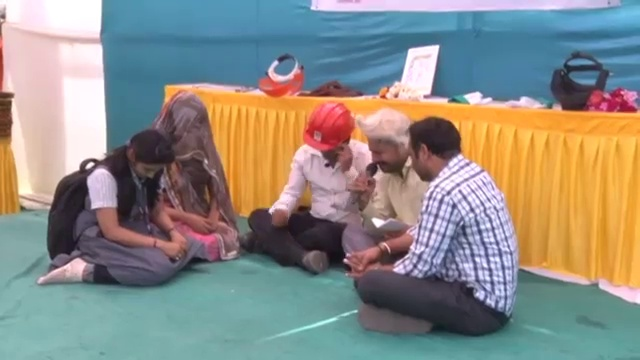helmet: (297, 105, 358, 152)
helmet_off: (408, 115, 464, 187), (361, 108, 414, 184), (157, 93, 214, 156), (124, 132, 172, 184)
helmet_on: (295, 102, 356, 171)
person: (347, 114, 522, 333), (42, 125, 195, 287), (244, 99, 372, 269), (143, 84, 243, 264), (343, 112, 427, 275)
